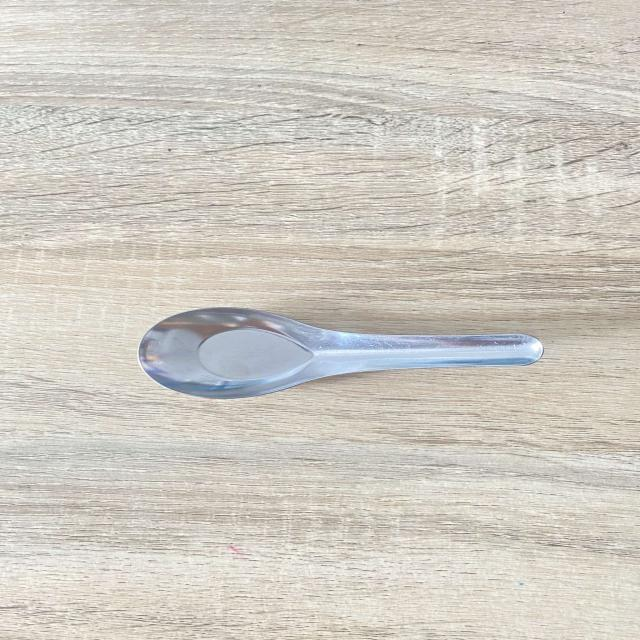short-spoon: (121, 300, 563, 407)
